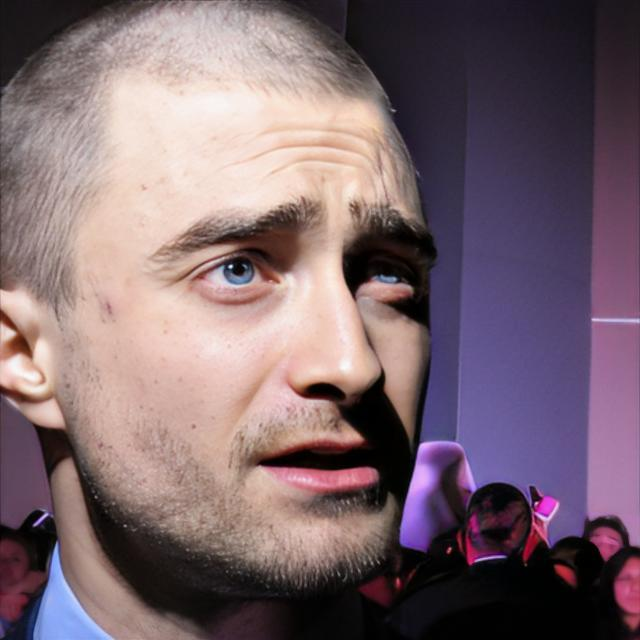fear: (69, 76, 440, 600)
